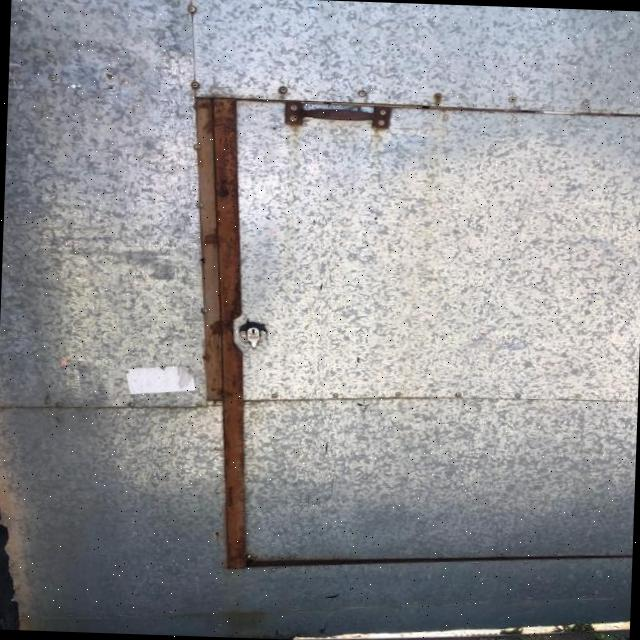Corrosion: (177, 86, 640, 582), (178, 94, 264, 568)
